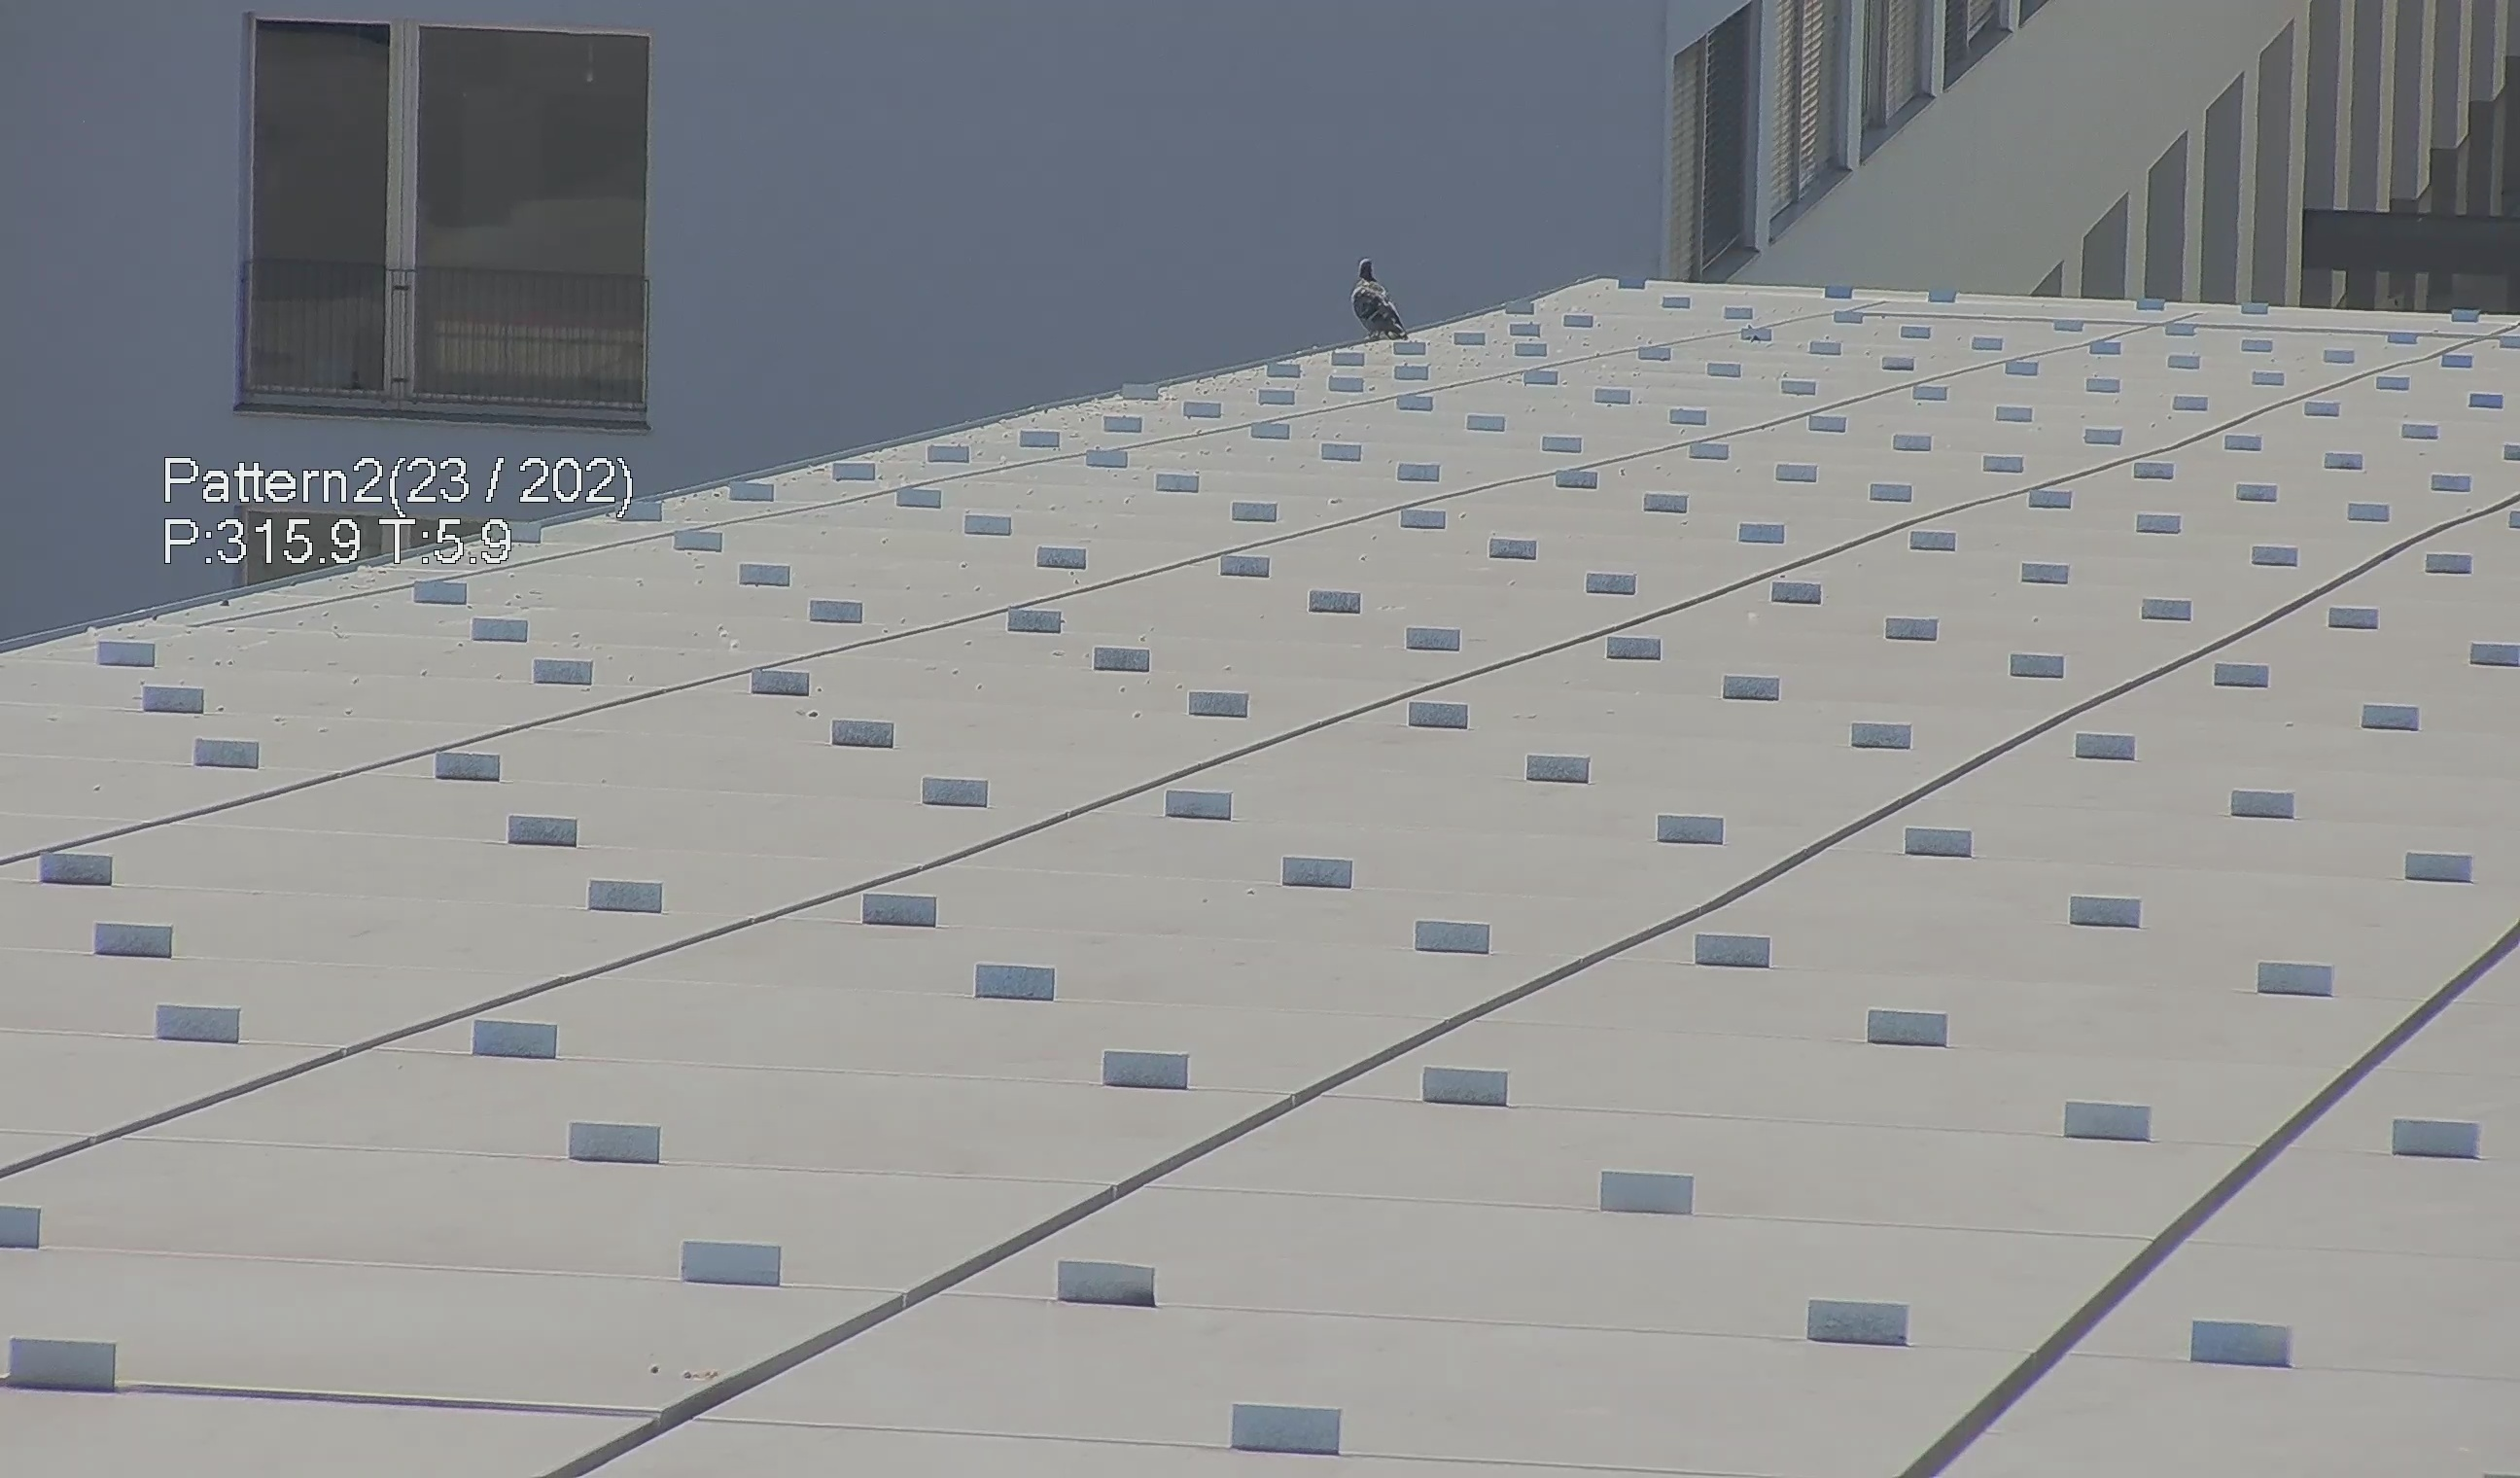Pigeon: (1335, 243, 1414, 345)
